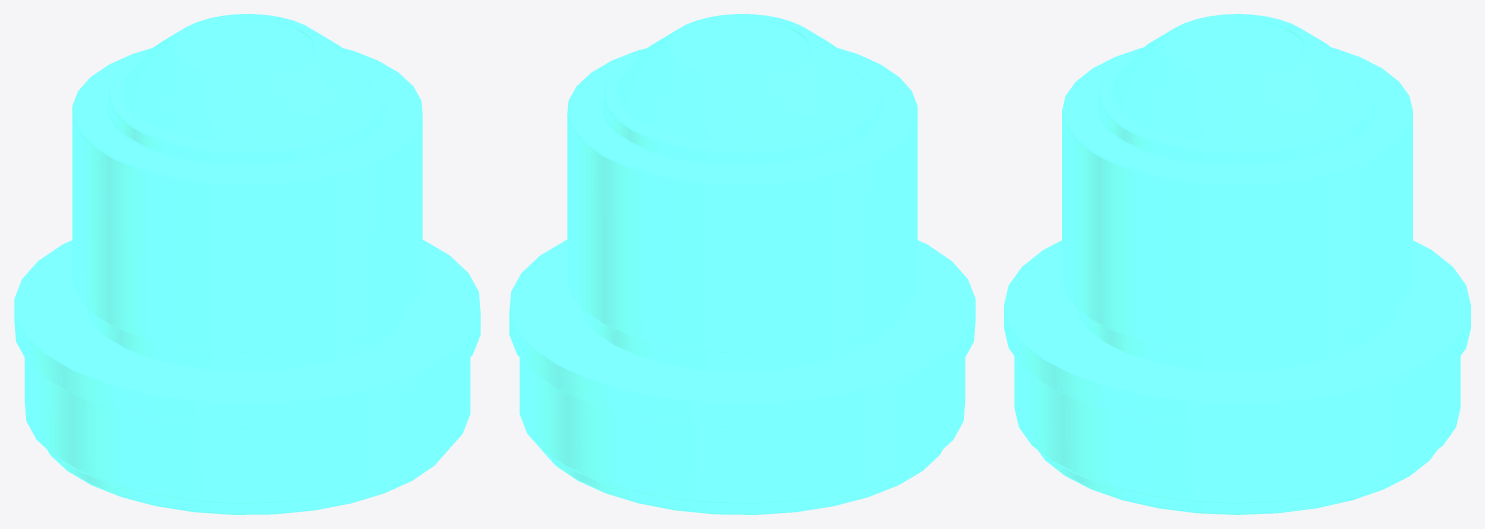
The model's file is hdiaphragm.gltf.
3 renders of one model, left to right at view 1: azimuth 30°, elevation 25°; view 2: azimuth 150°, elevation 25°; view 3: azimuth 270°, elevation 25°, orthographic.
Visible parts, largest first — view 1: condenser; view 2: condenser; view 3: condenser.
Boxes of the visible parts, x1=… form: condenser: x1=14, y1=14, x2=480, y2=514; condenser: x1=509, y1=14, x2=975, y2=514; condenser: x1=1004, y1=14, x2=1470, y2=514.
Size of the model in its own units: 0.0523 by 0.0474 by 0.0523.
